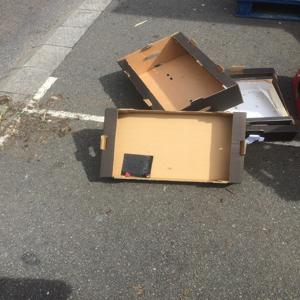cardboard: (97, 105, 260, 200), (122, 29, 241, 118), (208, 47, 298, 139)
